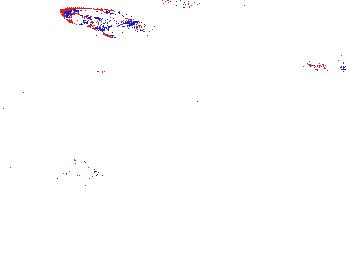X-ray fish: (38, 98, 117, 146), (47, 158, 105, 194)
red belly glassfish: (160, 1, 209, 10)
redtail glassfish: (59, 5, 147, 40)
